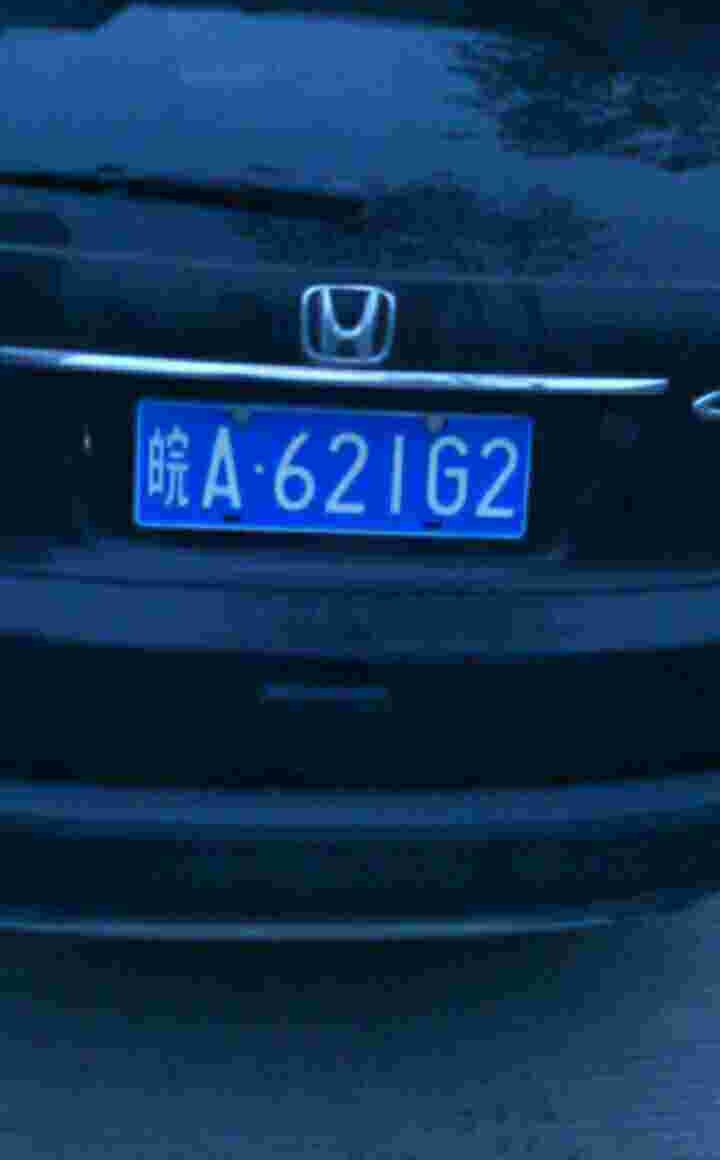license_plate: (135, 388, 541, 546)
